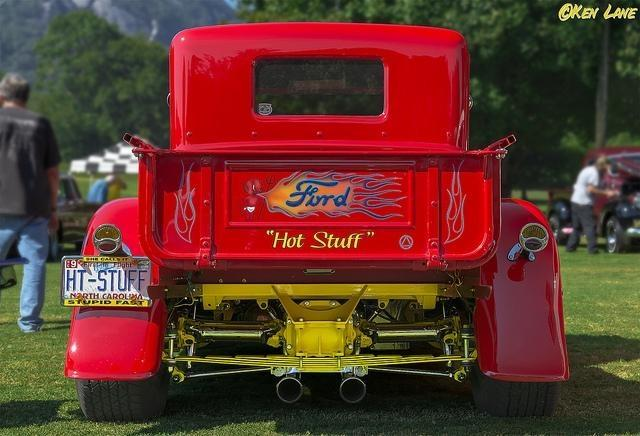car: (550, 144, 640, 254)
truck: (59, 23, 570, 418)
